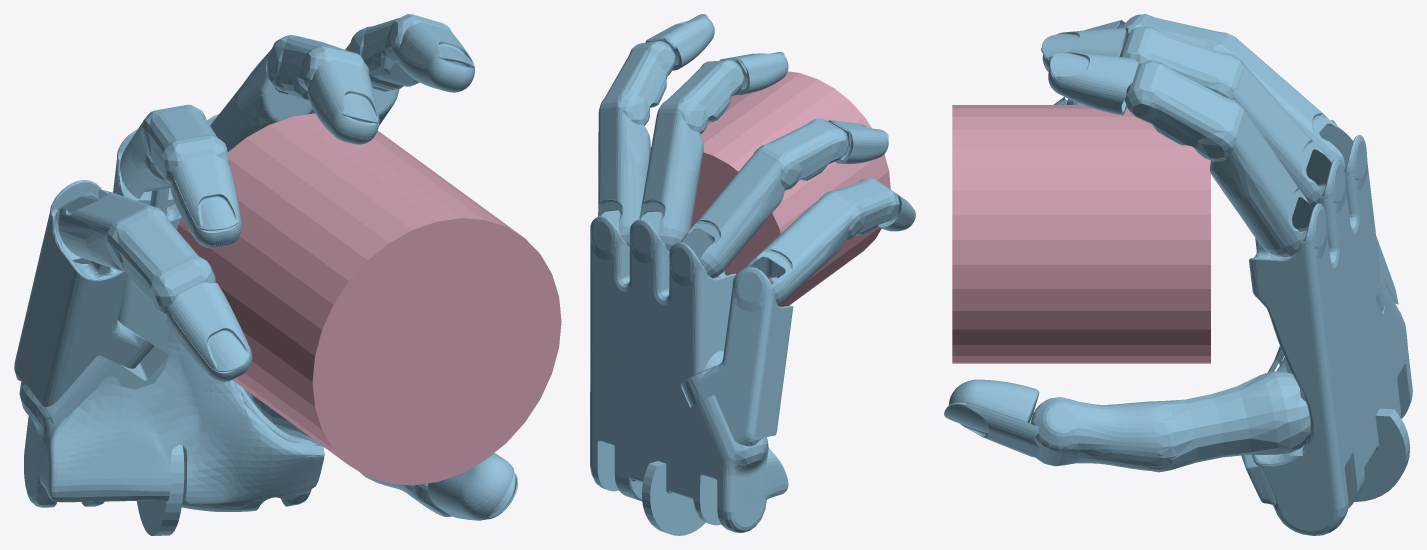
3 views of the same model, side by side, from view 1: azimuth 30°, elevation 25°; view 2: azimuth 150°, elevation 25°; view 3: azimuth 270°, elevation 25° (orthographic). The views are drawn at different scales.
Visible parts, largest first — view 1: world, cylinder_medium.stl; view 2: world, cylinder_medium.stl; view 3: world, cylinder_medium.stl.
Part boxes in pixels (bbox=[...]): world: bbox=[14, 14, 517, 535]; cylinder_medium.stl: bbox=[177, 113, 561, 485]; world: bbox=[590, 14, 915, 535]; cylinder_medium.stl: bbox=[650, 71, 890, 306]; world: bbox=[944, 14, 1412, 535]; cylinder_medium.stl: bbox=[952, 105, 1210, 363].
Size of the model in its own units: 0.1073 by 0.1722 by 0.1449.
